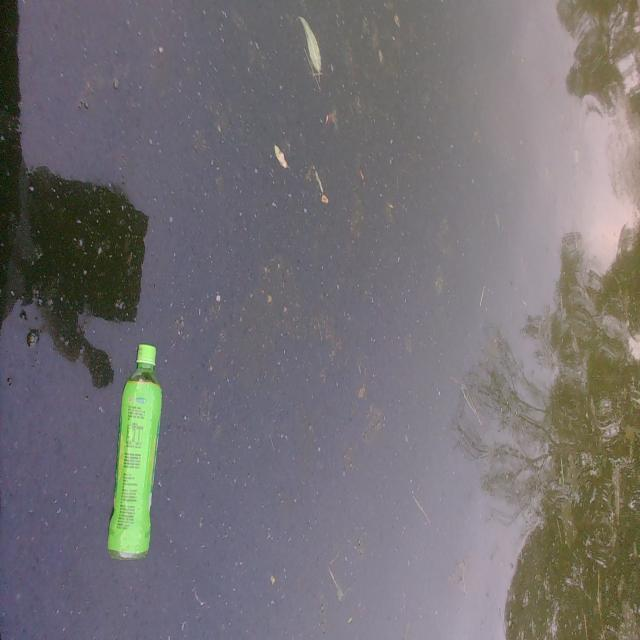bottle: (92, 336, 180, 589)
